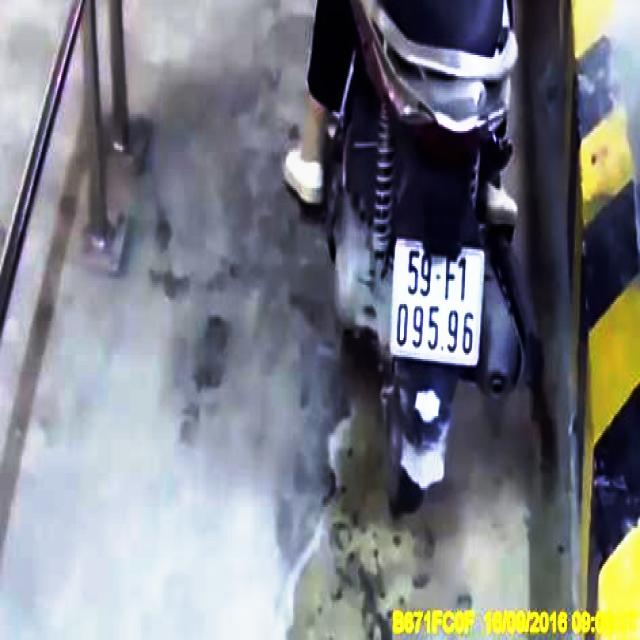license_plate: (393, 238, 485, 366)
